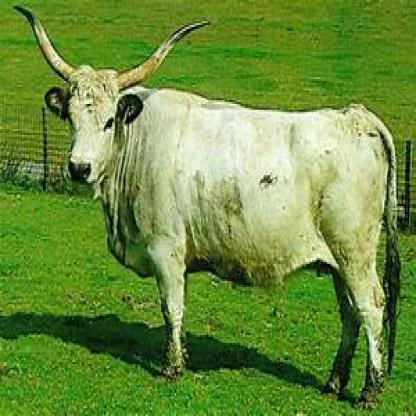cow: (14, 6, 401, 410)
